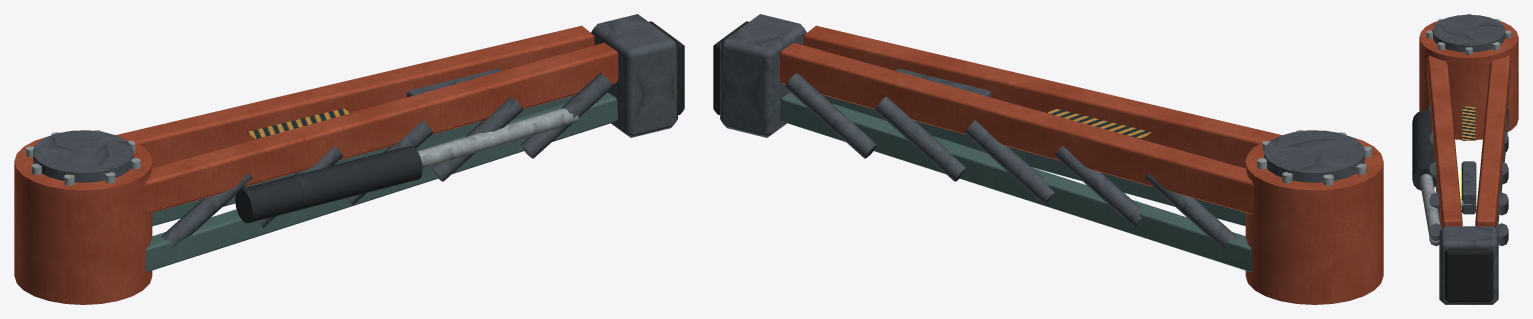
File: arm_port.fbx
3 views of the same model, side by side, from view 1: azimuth 30°, elevation 25°; view 2: azimuth 150°, elevation 25°; view 3: azimuth 270°, elevation 25° (orthographic). The views are drawn at different scales.
Visible parts, largest first — view 1: SM_anchor_arm_port; view 2: SM_anchor_arm_port; view 3: SM_anchor_arm_port.
Boxes of the visible parts, x1,y1,x2,y2 form: SM_anchor_arm_port: (14, 14, 684, 304); SM_anchor_arm_port: (713, 14, 1383, 304); SM_anchor_arm_port: (1412, 14, 1518, 304).
Size of the model in its own units: 2.78 by 0.51 by 0.55.
Materials: 8 (7 with a texture image).
